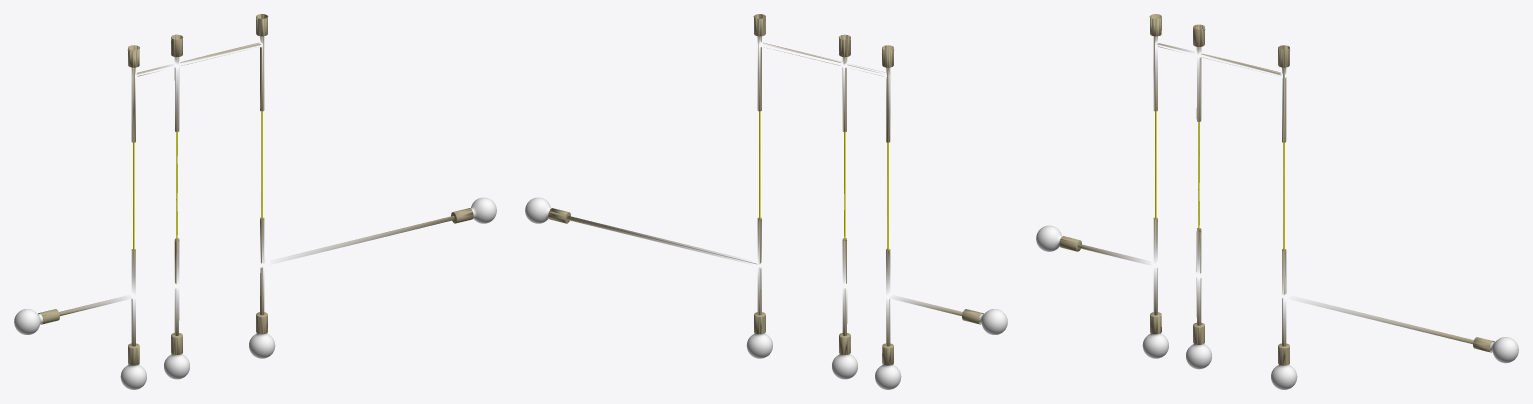
File: designconnected-big-kick-pendant-10509.optimized.glb
3 views of the same model, side by side, from view 1: azimuth 30°, elevation 25°; view 2: azimuth 150°, elevation 25°; view 3: azimuth 330°, elevation 25° (orthographic).
Parts seen in each view (by area): view 1: Volkerhaug_Big_Kick_mat1; view 2: Volkerhaug_Big_Kick_mat1; view 3: Volkerhaug_Big_Kick_mat1.
Part boxes in pixels (bbox=[...]): Volkerhaug_Big_Kick_mat1: bbox=[14, 14, 496, 389]; Volkerhaug_Big_Kick_mat1: bbox=[525, 14, 1007, 389]; Volkerhaug_Big_Kick_mat1: bbox=[1036, 14, 1518, 389].
Bounding box in the file's own units: 2 × 1.36 × 0.095.
